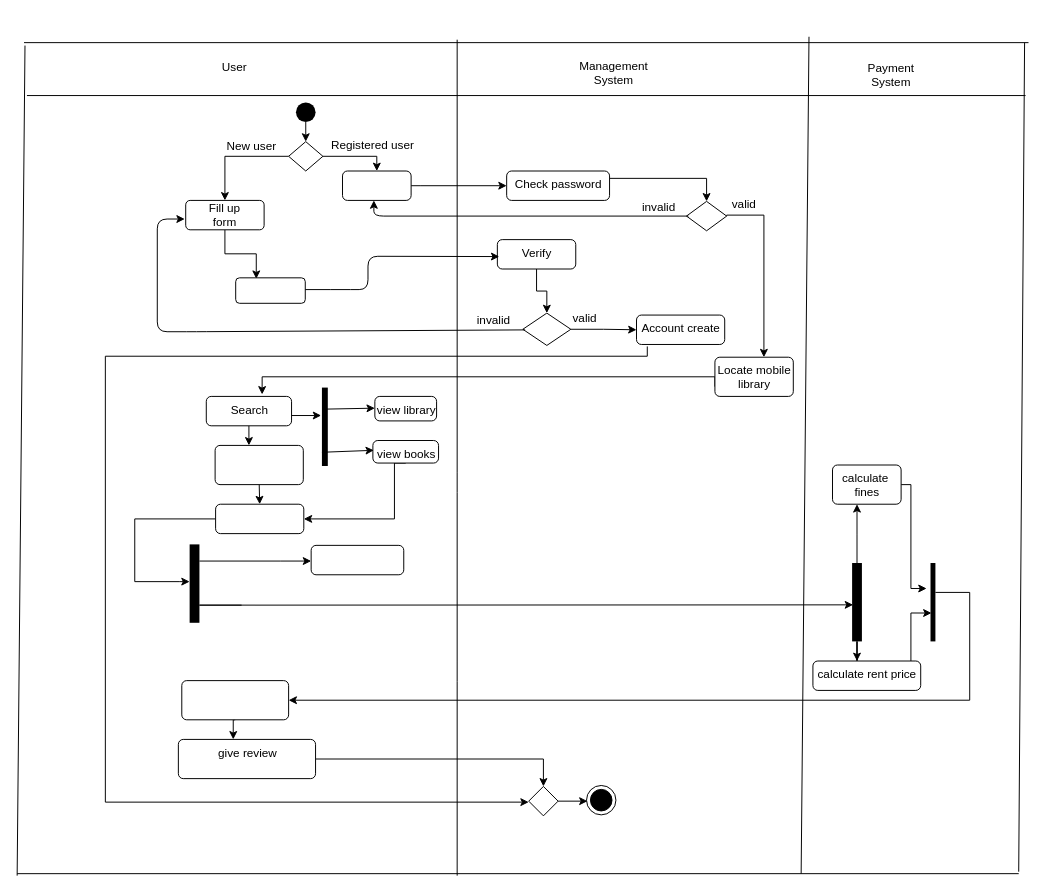
Image size: 1047x894. Some labels were removed from this diagram. The shapes that lost their labels are listed below. From the top down, each one's centre as x and y in pixels, then its label:
the point at 376,185: Login
the point at 270,290: Sign up
the point at 258,464: watch book review
the point at 259,518: rent books
the point at 357,559: renew books
the point at 235,700: confirm payment
